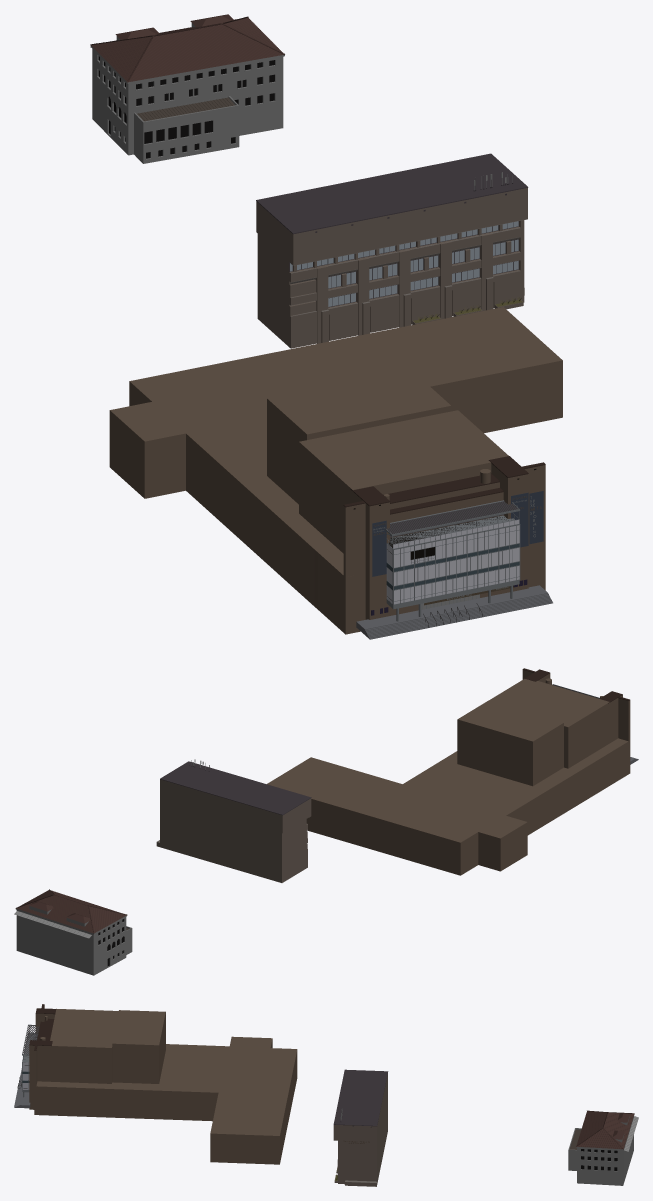
The picture shows the model from 3 angles, top to bottom: view 1: azimuth 30°, elevation 25°; view 2: azimuth 150°, elevation 25°; view 3: azimuth 270°, elevation 25°; orthographic projection. The views are drawn at different scales.
Parts seen in each view (by area): view 1: opaque, glass; view 2: opaque, glass; view 3: opaque, glass.
Part boxes in pixels (x1=…): opaque: x1=90, y1=14, x2=562, y2=639; glass: x1=98, y1=56, x2=519, y2=609; opaque: x1=14, y1=668, x2=638, y2=975; glass: x1=14, y1=911, x2=124, y2=966; opaque: x1=14, y1=1004, x2=638, y2=1186; glass: x1=22, y1=1062, x2=638, y2=1170.
Bounding box in the file's own units: 128 × 33.2 × 279.
Materials: 2 (2 with a texture image).
